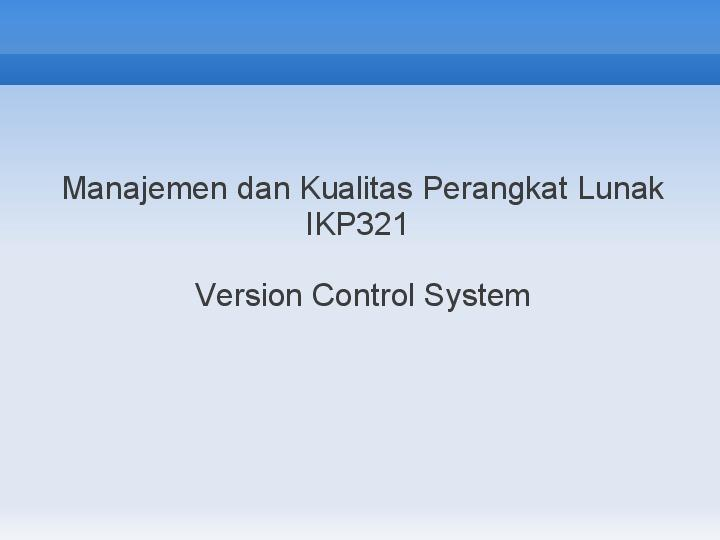title: (176, 264, 569, 344)
